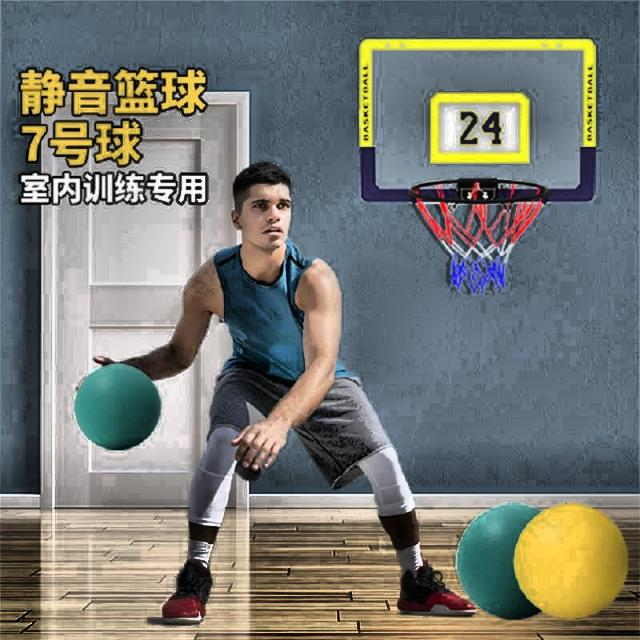rim: (412, 179, 551, 290)
